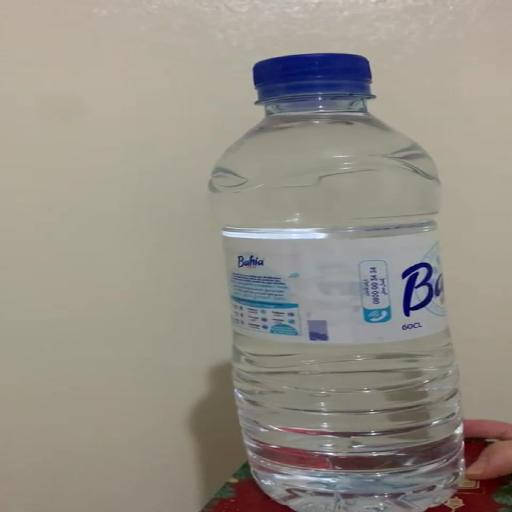bouteille conformite: (184, 42, 478, 512)
